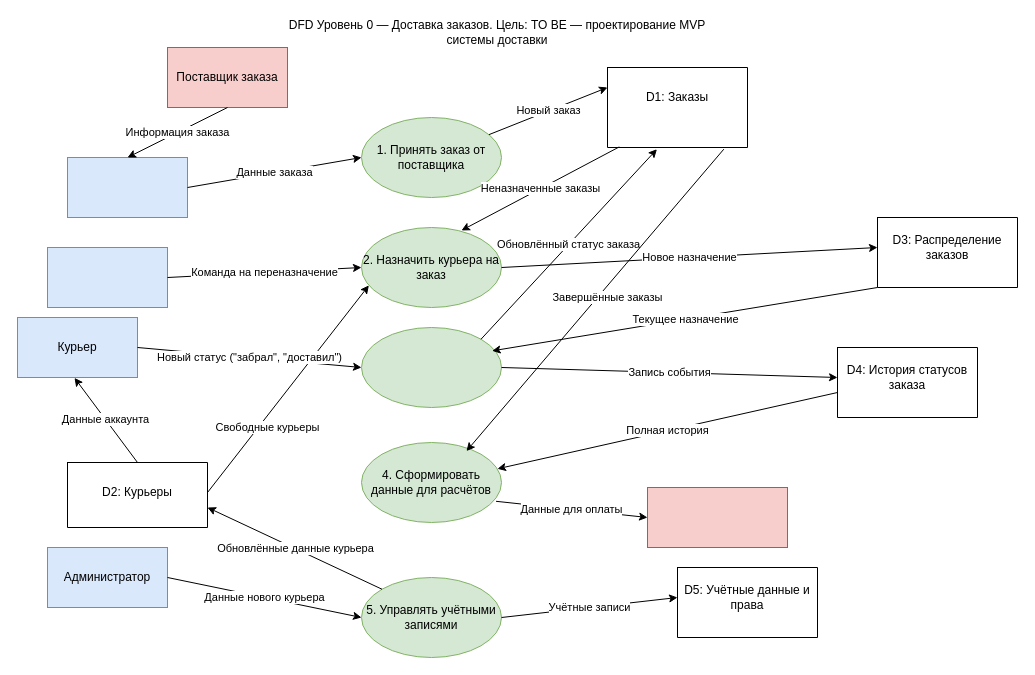
The diagram is 1035 pixels wide and 675 high, and some of its shapes have lost their labels. The centre of each missing label's shape, as x and y in pixels:
"3. Обновить статус заказа" goes at [431,367].
"Бухгалтерия" goes at [717,517].
"Диспетчер" goes at [107,277].
"Оператор" goes at [127,187].
